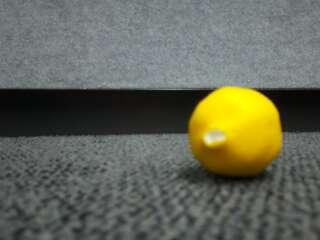lemon: (190, 86, 283, 175)
